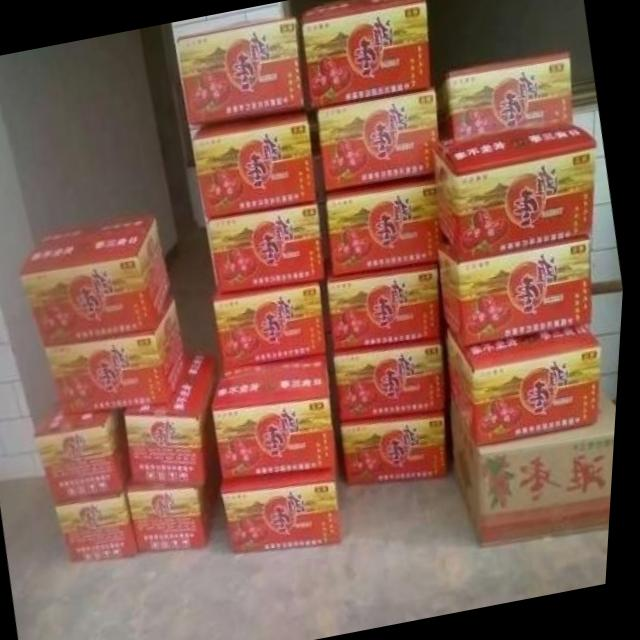box: (456, 389, 621, 545), (435, 126, 596, 262), (25, 217, 176, 342), (451, 329, 605, 443), (48, 297, 191, 414), (441, 239, 594, 344), (220, 356, 339, 479), (302, 0, 431, 106), (179, 19, 306, 124), (195, 110, 318, 218), (128, 348, 222, 482), (437, 51, 575, 142), (320, 87, 439, 189), (228, 467, 349, 553), (211, 206, 326, 295), (330, 265, 446, 353), (330, 182, 440, 274), (219, 283, 329, 369), (41, 403, 134, 502), (338, 340, 449, 422), (347, 415, 453, 486), (134, 479, 225, 553), (62, 492, 145, 561)
